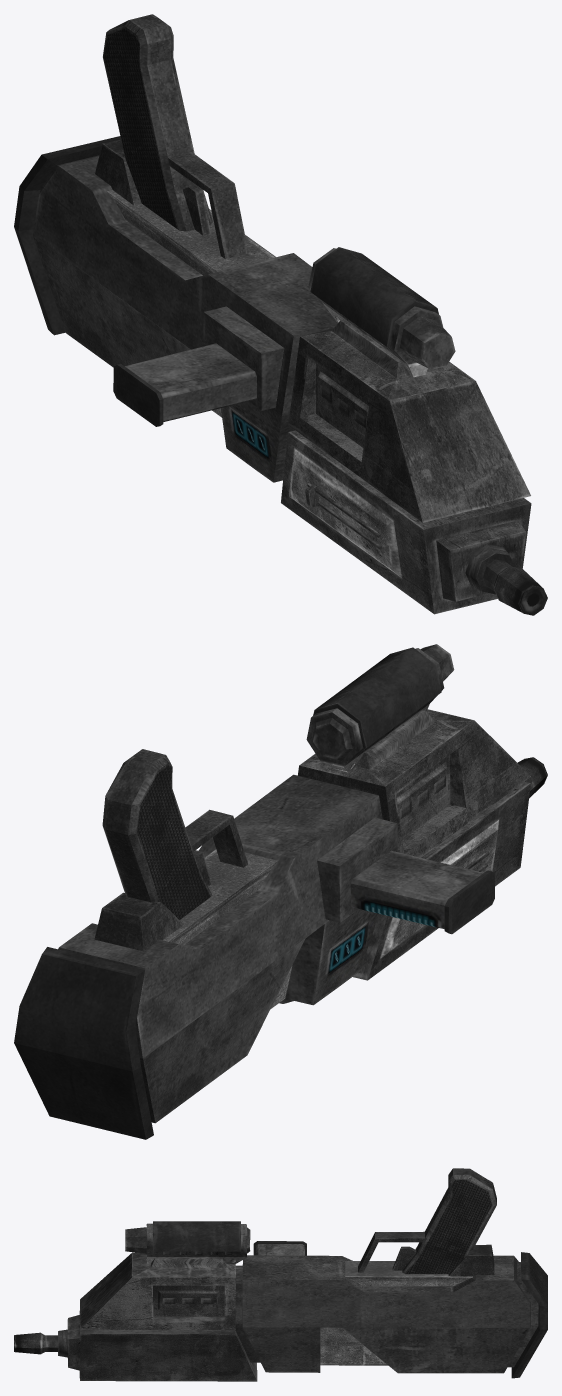
The picture shows the model from 3 angles, top to bottom: view 1: azimuth 30°, elevation 25°; view 2: azimuth 150°, elevation 25°; view 3: azimuth 270°, elevation 25°; orthographic projection. The views are drawn at different scales.
Parts seen in each view (by area): view 1: models/weapons2/dc17_md3/blaster; view 2: models/weapons2/dc17_md3/blaster; view 3: models/weapons2/dc17_md3/blaster.
Part boxes in pixels (bbox=[...]): models/weapons2/dc17_md3/blaster: bbox=[14, 14, 547, 615]; models/weapons2/dc17_md3/blaster: bbox=[14, 644, 547, 1139]; models/weapons2/dc17_md3/blaster: bbox=[14, 1168, 547, 1381].
Size of the model in its own units: 5.45 by 8.02 by 19.04.
Materials: 5 (5 with a texture image).
